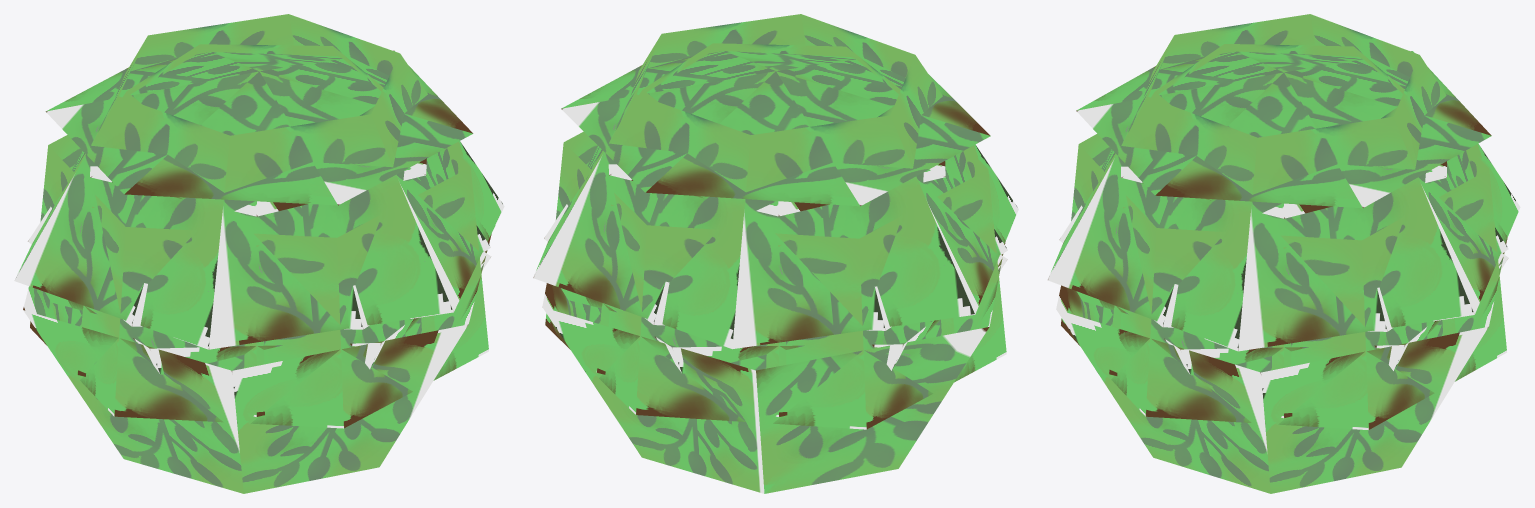
Rendered from Bush1.fbx.
The picture shows the model from 3 angles, left to right: view 1: azimuth 30°, elevation 25°; view 2: azimuth 150°, elevation 25°; view 3: azimuth 270°, elevation 25°; orthographic projection.
Visible parts, largest first — view 1: pSphere21; view 2: pSphere21; view 3: pSphere21.
Part boxes in pixels (left/top/right/bottom): pSphere21: left=14, top=14, right=504, bottom=493; pSphere21: left=533, top=14, right=1018, bottom=493; pSphere21: left=1047, top=14, right=1520, bottom=493.
Size of the model in its own units: 1.29 by 0.987 by 1.18.
